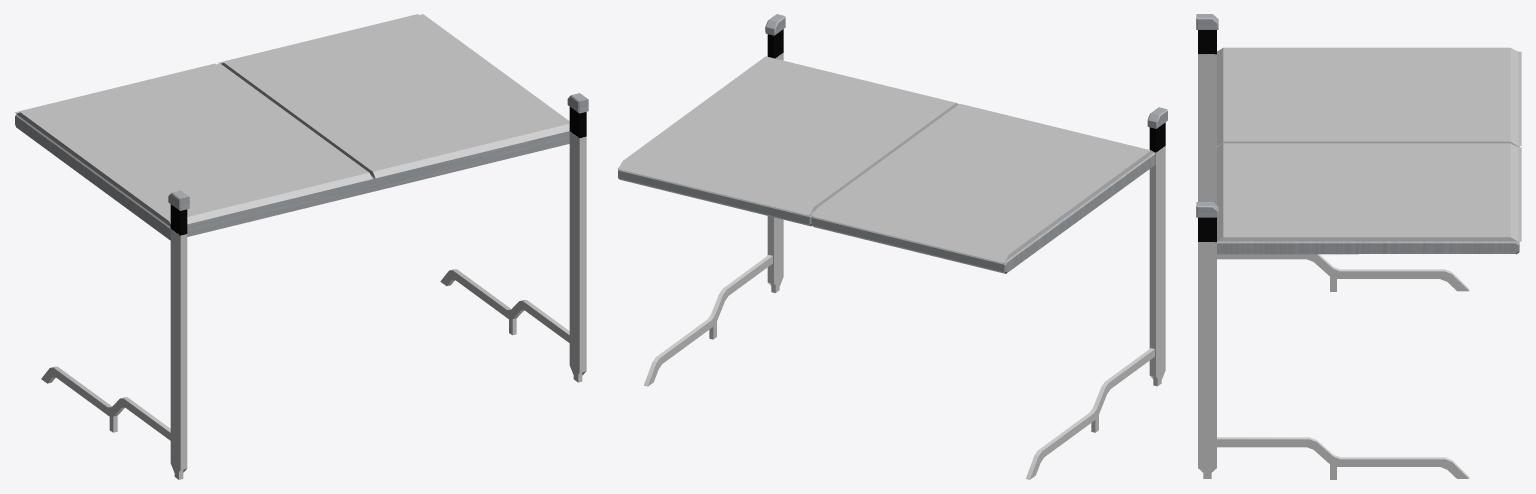
Rendered from PlantTable2.FBX.
3 renders of one model, left to right at view 1: azimuth 30°, elevation 25°; view 2: azimuth 150°, elevation 25°; view 3: azimuth 270°, elevation 25°, orthographic. The views are drawn at different scales.
Visible parts, largest first — view 1: PlantTable001, shelf_frame001, TableTop002; view 2: PlantTable001, shelf_frame001, TableTop002; view 3: PlantTable001, shelf_frame001, TableTop002.
Boxes of the visible parts, x1=… form: PlantTable001: x1=14, y1=14, x2=569, y2=226; shelf_frame001: x1=41, y1=93, x2=588, y2=479; TableTop002: x1=15, y1=114, x2=569, y2=240; PlantTable001: x1=617, y1=56, x2=1154, y2=262; shelf_frame001: x1=644, y1=14, x2=1167, y2=479; TableTop002: x1=618, y1=152, x2=1155, y2=273; PlantTable001: x1=1217, y1=47, x2=1521, y2=241; shelf_frame001: x1=1196, y1=14, x2=1469, y2=479; TableTop002: x1=1217, y1=146, x2=1519, y2=254.
Bounding box in the file's own units: 61.65 × 41 × 43.94.
